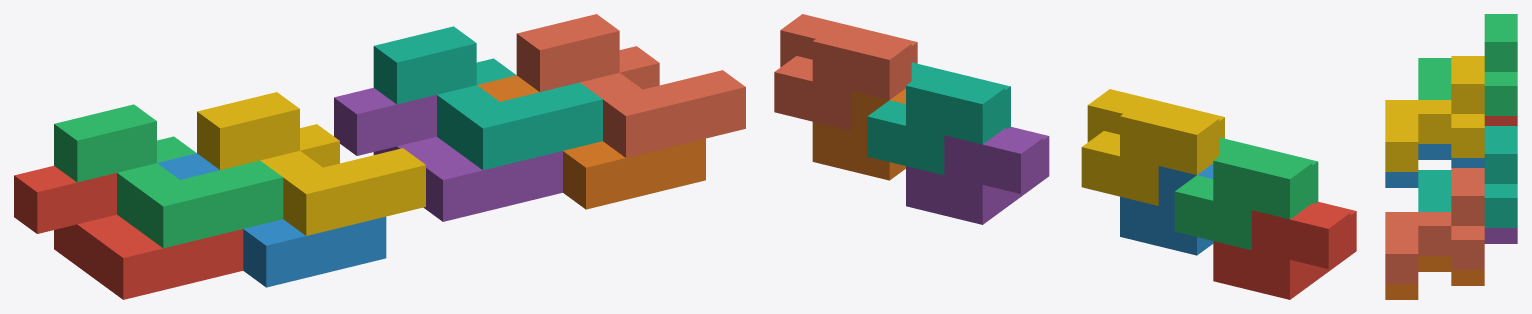
Rendered from tiling.obj.
3 views of the same model, side by side, from view 1: azimuth 30°, elevation 25°; view 2: azimuth 150°, elevation 25°; view 3: azimuth 270°, elevation 25° (orthographic). The views are drawn at different scales.
Visible parts, largest first — view 1: copy_1_domain_3, copy_1_domain_7, copy_1_domain_8, copy_1_domain_4, copy_1_domain_1, copy_1_domain_5, copy_1_domain_2, copy_1_domain_6; view 2: copy_1_domain_4, copy_1_domain_8, copy_1_domain_3, copy_1_domain_7, copy_1_domain_1, copy_1_domain_5, copy_1_domain_6, copy_1_domain_2; view 3: copy_1_domain_4, copy_1_domain_8, copy_1_domain_3, copy_1_domain_7, copy_1_domain_6, copy_1_domain_2, copy_1_domain_5, copy_1_domain_1.
Boxes of the visible parts, bbox=[...] form: copy_1_domain_3: bbox=[54, 104, 283, 248]; copy_1_domain_7: bbox=[373, 26, 602, 170]; copy_1_domain_8: bbox=[516, 14, 745, 157]; copy_1_domain_4: bbox=[197, 92, 425, 235]; copy_1_domain_1: bbox=[14, 166, 243, 299]; copy_1_domain_5: bbox=[334, 87, 562, 221]; copy_1_domain_2: bbox=[157, 153, 386, 287]; copy_1_domain_6: bbox=[477, 75, 705, 209]; copy_1_domain_4: bbox=[1081, 89, 1224, 205]; copy_1_domain_8: bbox=[774, 14, 917, 130]; copy_1_domain_3: bbox=[1174, 137, 1318, 250]; copy_1_domain_7: bbox=[867, 62, 1010, 175]; copy_1_domain_1: bbox=[1213, 201, 1356, 299]; copy_1_domain_5: bbox=[906, 127, 1049, 224]; copy_1_domain_6: bbox=[812, 88, 905, 180]; copy_1_domain_2: bbox=[1120, 163, 1213, 255]; copy_1_domain_4: bbox=[1385, 56, 1484, 171]; copy_1_domain_8: bbox=[1385, 168, 1484, 283]; copy_1_domain_3: bbox=[1418, 14, 1517, 115]; copy_1_domain_7: bbox=[1418, 126, 1517, 227]; copy_1_domain_6: bbox=[1385, 256, 1484, 299]; copy_1_domain_2: bbox=[1385, 144, 1484, 187]; copy_1_domain_5: bbox=[1484, 228, 1517, 243]; copy_1_domain_1: bbox=[1484, 116, 1517, 125].
Bounding box in the file's own units: 16 × 3 × 4.
